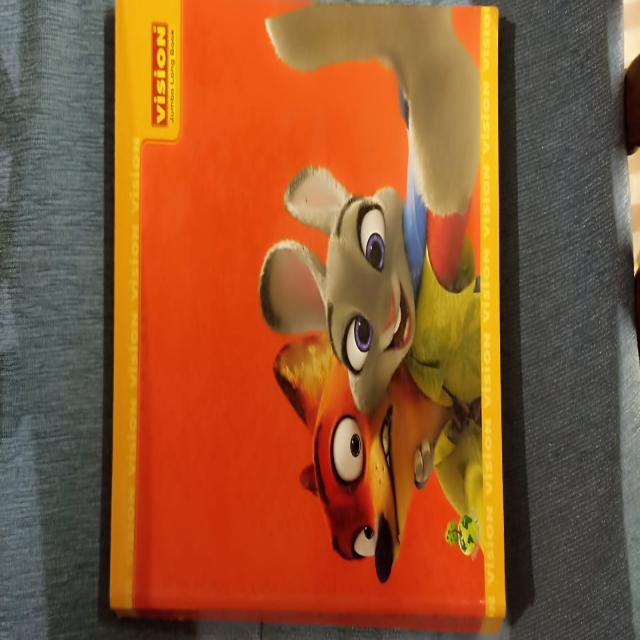book: (111, 0, 510, 640)
